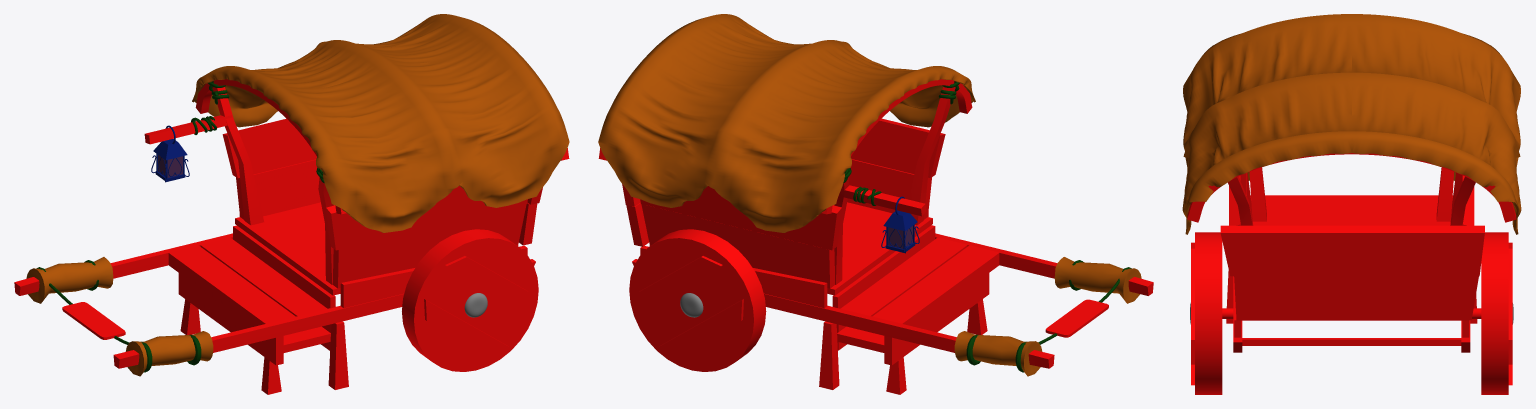
Rendered from Carriage2.fbx.
The picture shows the model from 3 angles, left to right: view 1: azimuth 30°, elevation 25°; view 2: azimuth 150°, elevation 25°; view 3: azimuth 270°, elevation 25°; orthographic projection. The views are drawn at different scales.
Parts seen in each view (by area): view 1: Circle003; view 2: Circle003; view 3: Circle003.
Part boxes in pixels (left/top/right/bottom): Circle003: left=14, top=14, right=569, bottom=394; Circle003: left=598, top=14, right=1153, bottom=394; Circle003: left=1182, top=14, right=1521, bottom=394.
Bounding box in the file's own units: 241 × 142 × 145.
